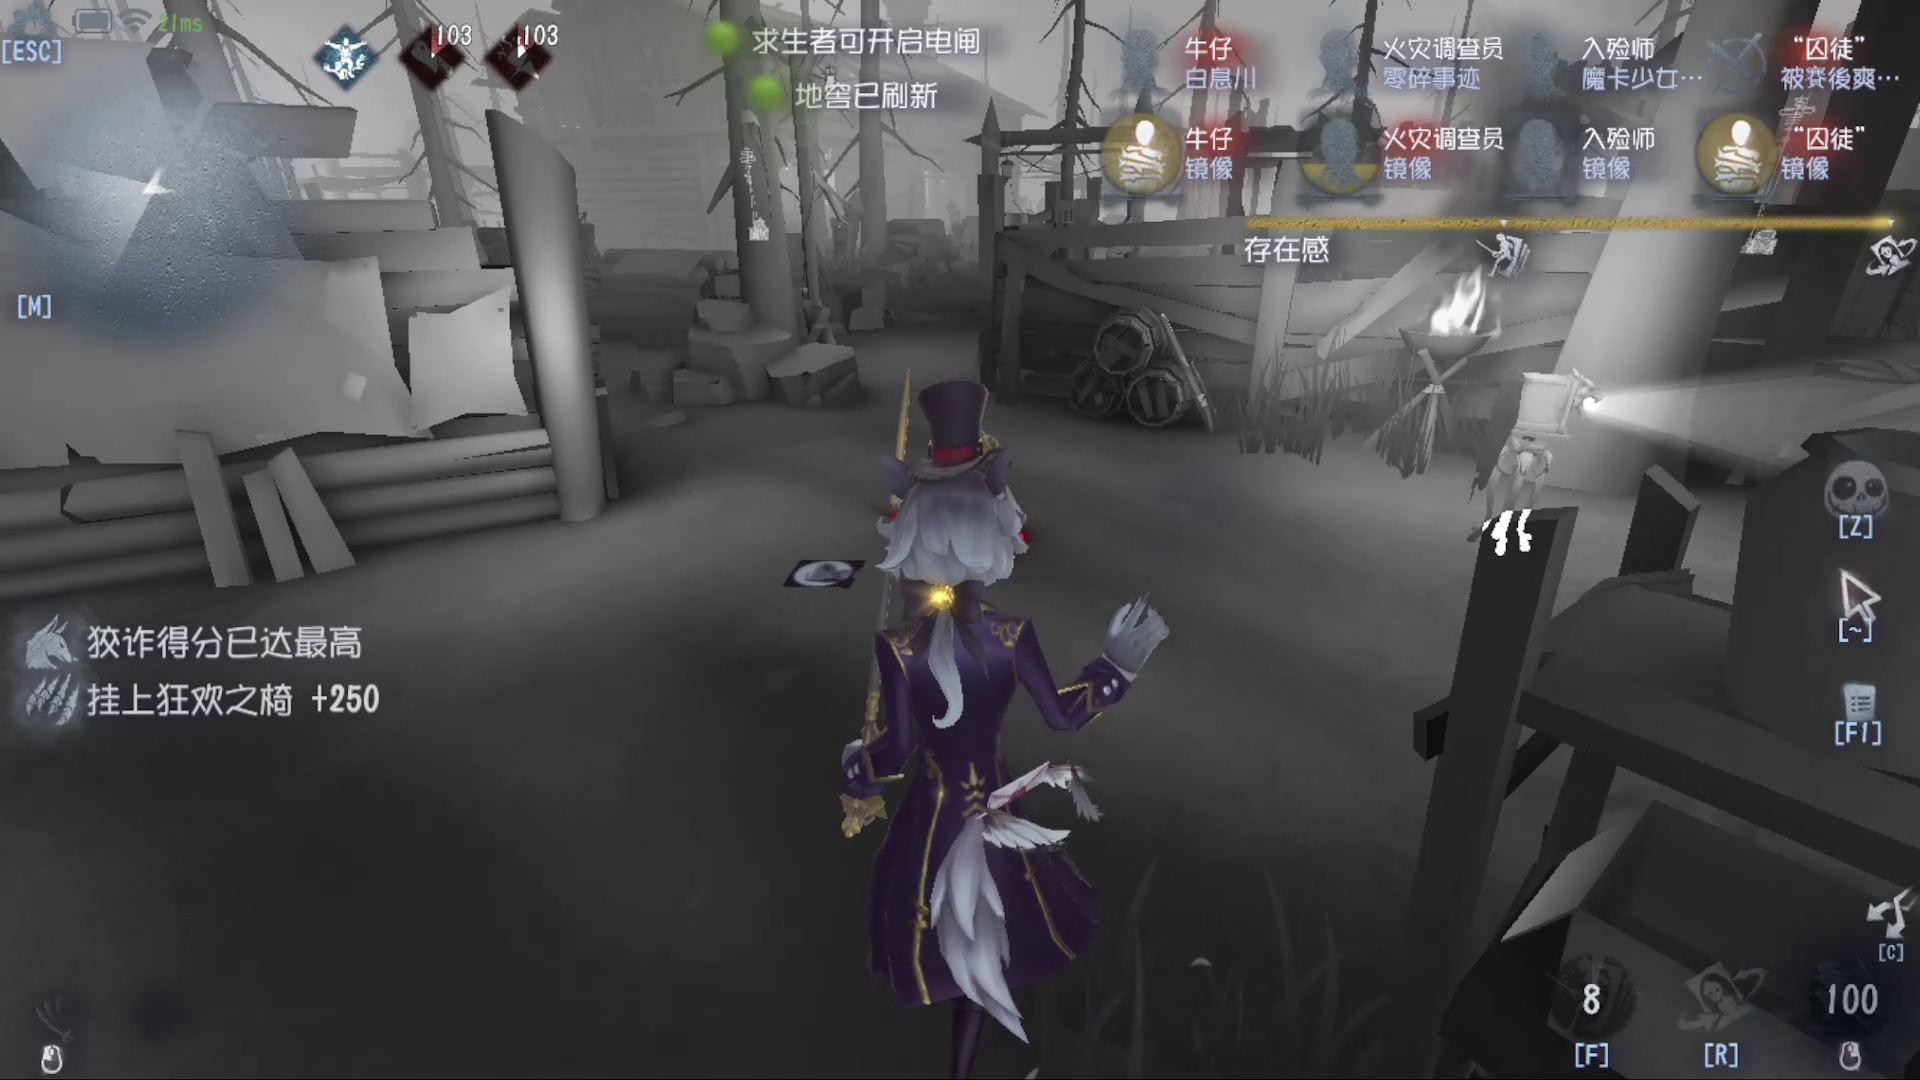密码机: (727, 123, 800, 257)
